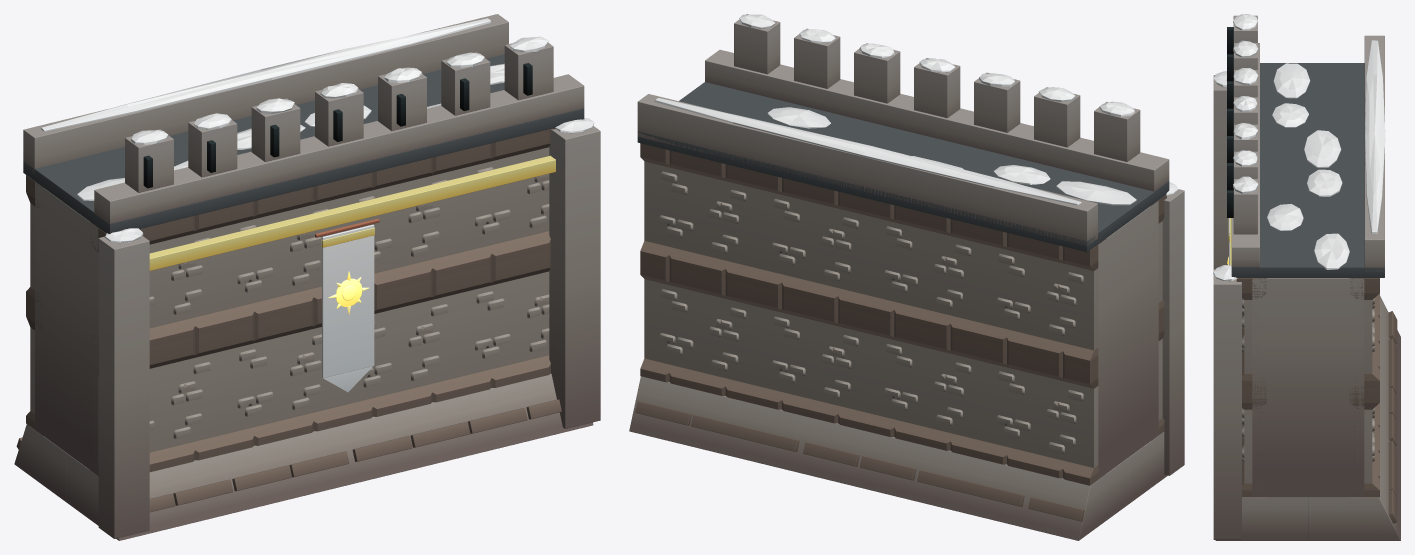
File: fortress_wall.glb
3 views of the same model, side by side, from view 1: azimuth 30°, elevation 25°; view 2: azimuth 150°, elevation 25°; view 3: azimuth 270°, elevation 25° (orthographic). The views are drawn at different scales.
Parts seen in each view (by area): view 1: fortress_wall; view 2: fortress_wall; view 3: fortress_wall.
Boxes of the visible parts, box(x1,y1,x2,y2) form: fortress_wall: box(14, 14, 600, 540); fortress_wall: box(629, 14, 1184, 540); fortress_wall: box(1213, 14, 1400, 540).
Size of the model in its own units: 12.3 by 9.29 by 4.66.
3 materials, 3 textured.
